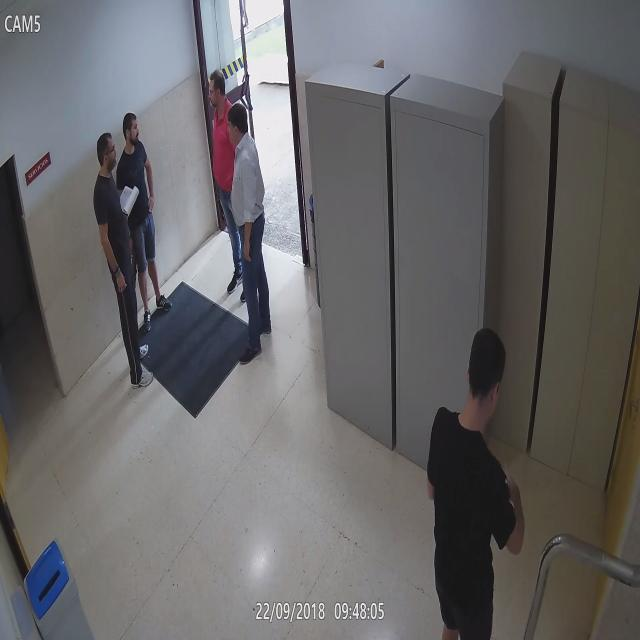pistol: (128, 236, 138, 293)
